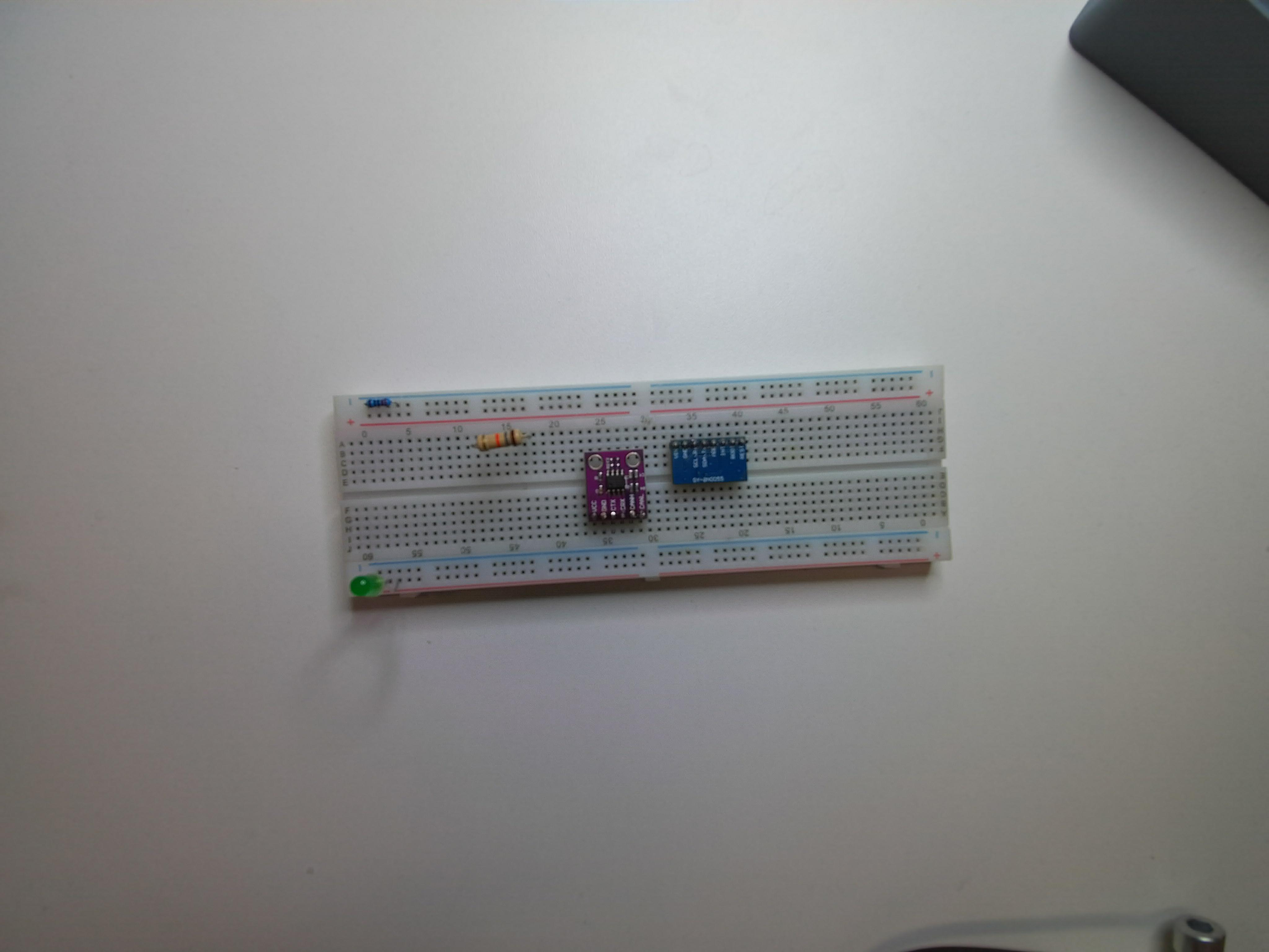base: (329, 365, 955, 608)
blue-board: (669, 438, 748, 490)
green-led: (344, 569, 392, 605)
purple-board: (583, 446, 650, 526)
resistor-big: (472, 426, 524, 453)
resistor-small: (364, 392, 393, 412)
